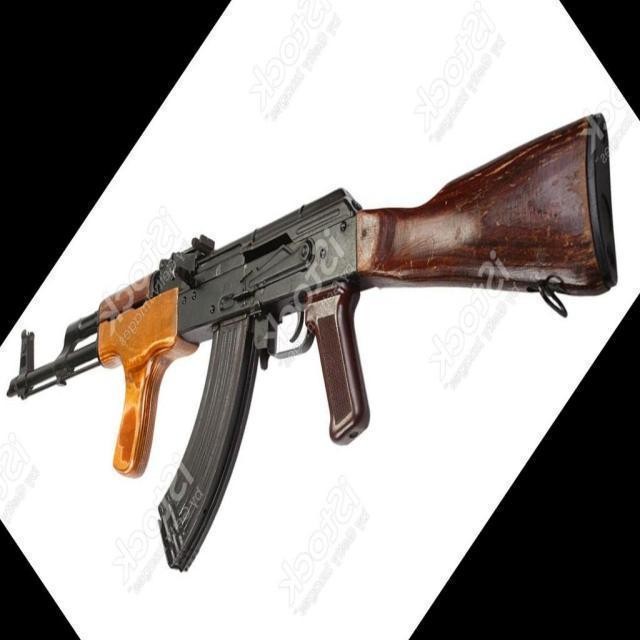Rifle: (6, 111, 619, 577)
